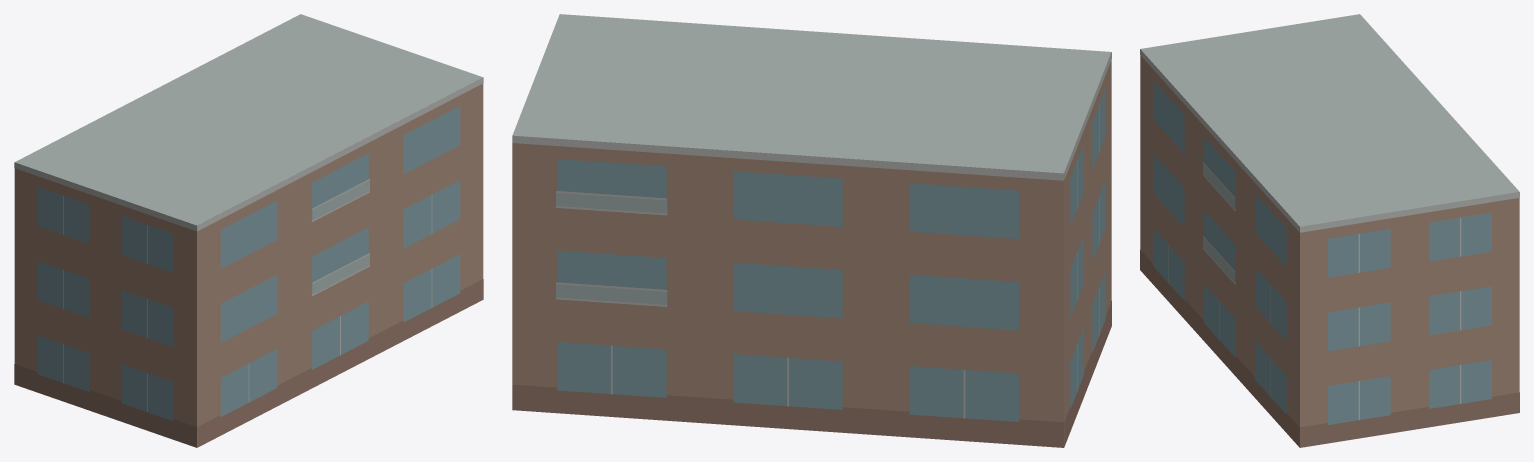
Rendered from survey-upis-32928104.glb.
3 views of the same model, side by side, from view 1: azimuth 30°, elevation 25°; view 2: azimuth 150°, elevation 25°; view 3: azimuth 270°, elevation 25° (orthographic). The views are drawn at different scales.
Visible parts, largest first — view 1: survey-upis-32928104.tmp; view 2: survey-upis-32928104.tmp; view 3: survey-upis-32928104.tmp.
Boxes of the visible parts, x1,y1,x2,y2 form: survey-upis-32928104.tmp: (14, 14, 483, 447); survey-upis-32928104.tmp: (512, 14, 1111, 447); survey-upis-32928104.tmp: (1140, 14, 1519, 447).
Size of the model in its own units: 18.91 by 9.15 by 14.26.
